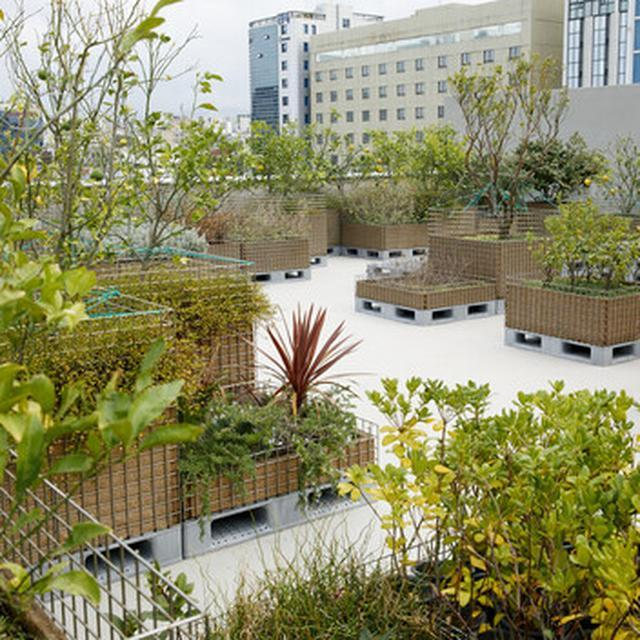building: (310, 0, 566, 162), (237, 1, 391, 150), (557, 0, 640, 92)
